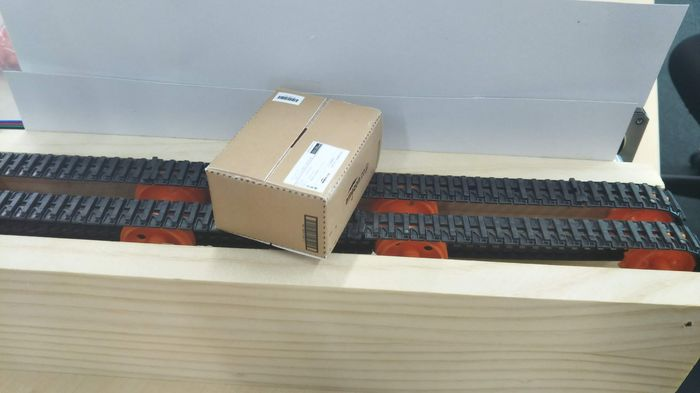box1: (204, 84, 383, 260)
